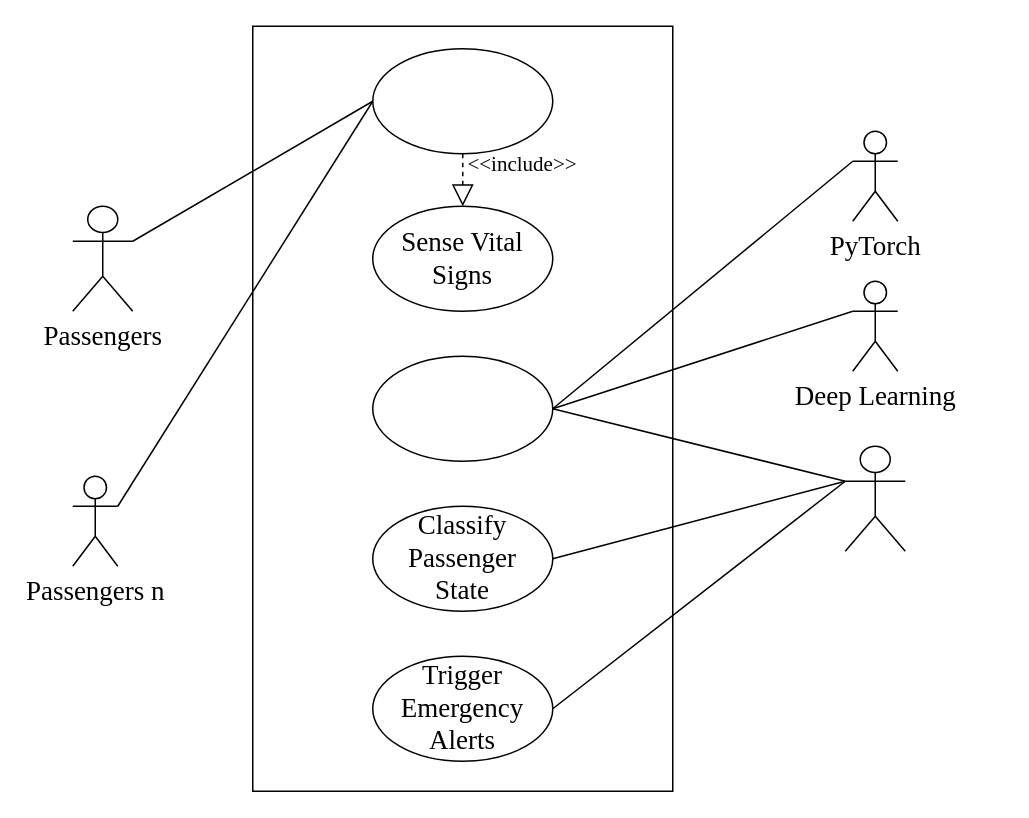
Some shapes in this 1029 by 818 pixel diagram are drawn without their labels. The shapes that lost their labels are listed below. From the top down, each one's centre as x and y in pixels, then its label:
At (462,100): "Sensors".
At (462,408): "Send signals to GPU".
At (874,498): "Vehicle Control System".
